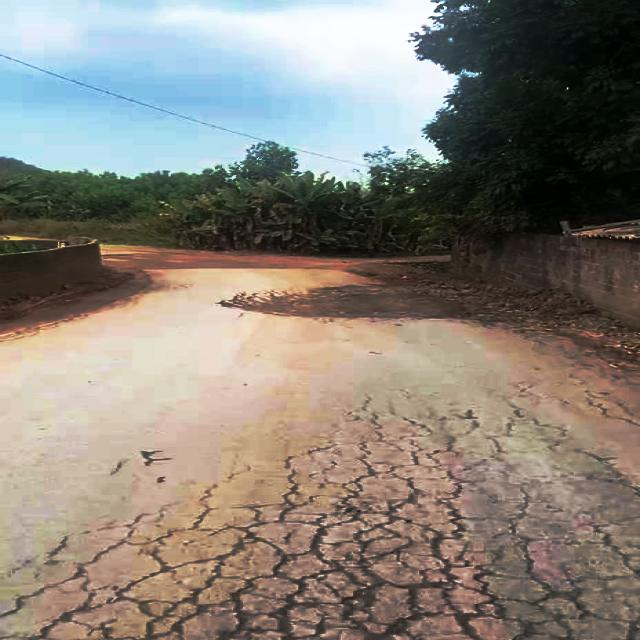pothole: (226, 279, 476, 318)
